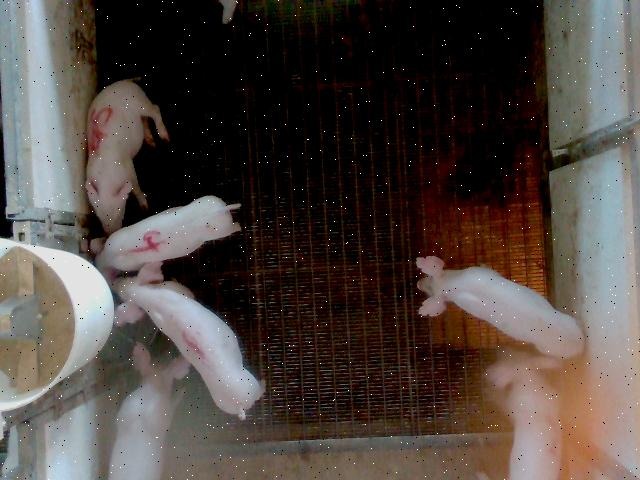pig-1: (114, 261, 265, 419)
pig-2: (485, 350, 561, 479)
pig-4: (98, 196, 240, 271)
pig-5: (86, 79, 169, 234)
